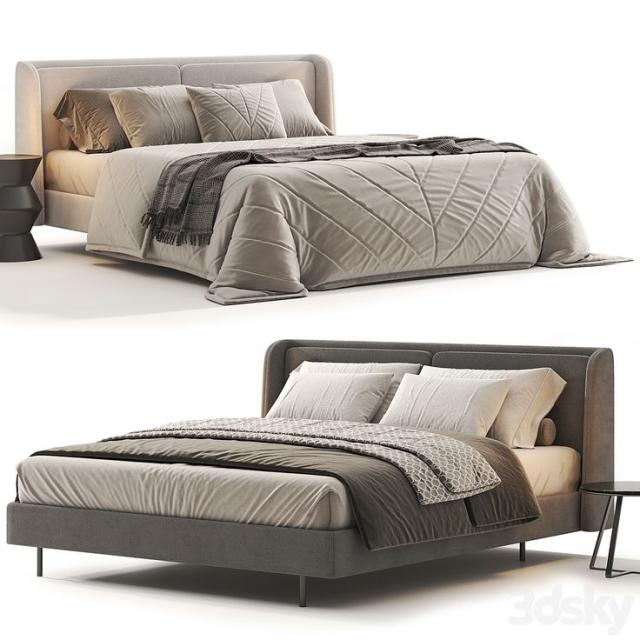obstacle: (5, 338, 615, 607), (13, 53, 630, 304), (578, 480, 639, 578)
